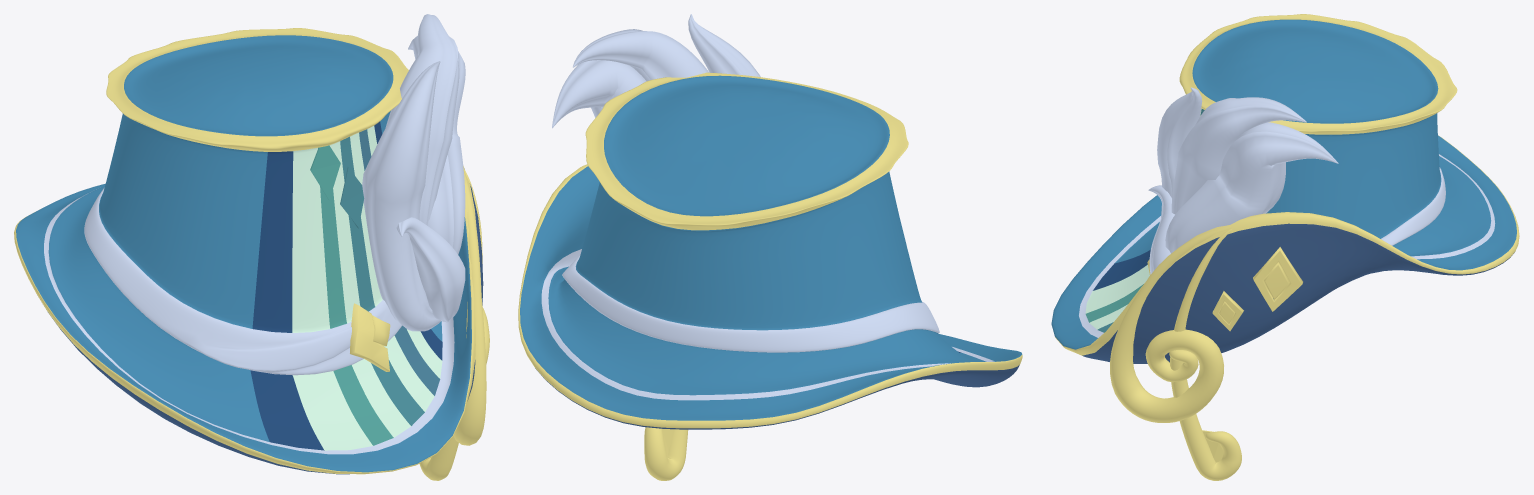
File: sombrero.glb
3 views of the same model, side by side, from view 1: azimuth 30°, elevation 25°; view 2: azimuth 150°, elevation 25°; view 3: azimuth 270°, elevation 25° (orthographic). The views are drawn at different scales.
Visible parts, largest first — view 1: Object_2, Object_10, Object_7, Object_11, Object_6, Object_3, Object_9, Object_8, Object_4, Object_5; view 2: Object_2, Object_7, Object_10, Object_11, Object_4; view 3: Object_7, Object_11, Object_10, Object_2, Object_4, Object_6, Object_3, Object_9.
Part boxes in pixels (<box>): Object_2: <box>48,111,442,441</box>; Object_10: <box>44,14,465,454</box>; Object_7: <box>16,35,471,472</box>; Object_11: <box>14,28,489,480</box>; Object_6: <box>292,126,442,450</box>; Object_3: <box>250,121,442,450</box>; Object_9: <box>310,145,393,445</box>; Object_8: <box>340,136,424,425</box>; Object_4: <box>48,184,483,474</box>; Object_5: <box>359,129,440,395</box>; Object_2: <box>548,171,986,395</box>; Object_7: <box>520,75,1022,420</box>; Object_10: <box>541,14,994,400</box>; Object_11: <box>518,72,1022,480</box>; Object_4: <box>535,365,1019,429</box>; Object_7: <box>1051,19,1516,349</box>; Object_11: <box>1055,14,1519,480</box>; Object_10: <box>1079,87,1495,337</box>; Object_2: <box>1115,113,1491,263</box>; Object_4: <box>1082,223,1514,363</box>; Object_6: <box>1085,108,1201,329</box>; Object_3: <box>1093,249,1150,290</box>; Object_9: <box>1085,284,1143,322</box>.
Size of the model in its own units: 1.06 by 1.1 by 1.2.
